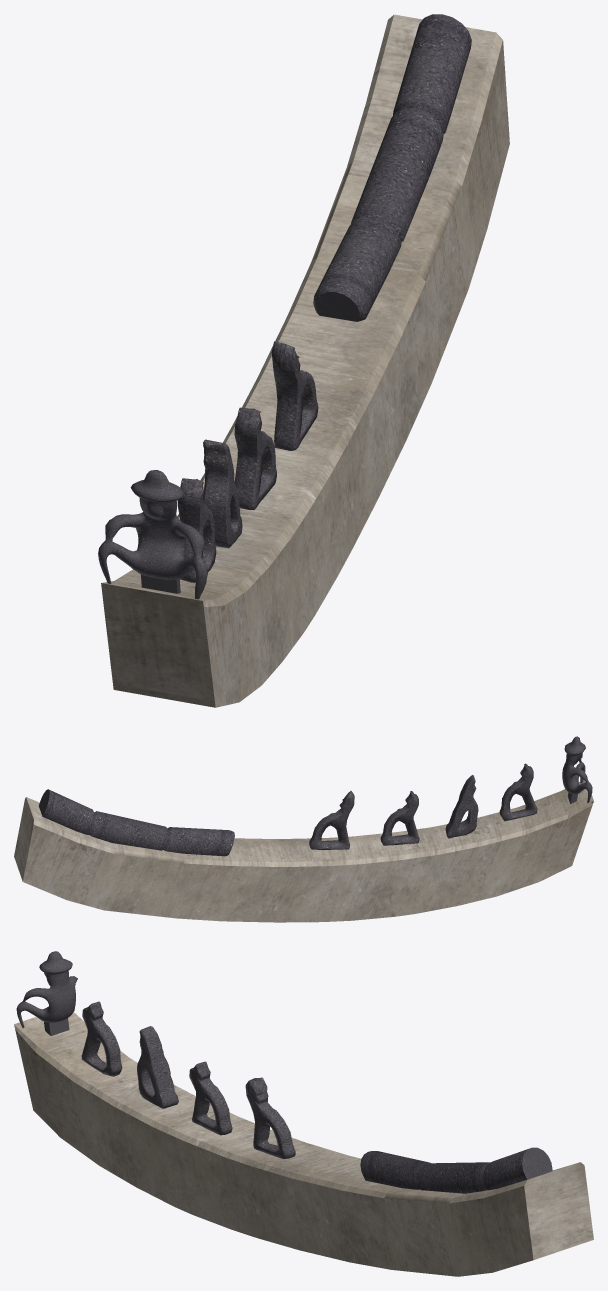
The model's file is SM_R_BeamRoof_16.fbx.
3 renders of one model, top to bottom at view 1: azimuth 30°, elevation 25°; view 2: azimuth 150°, elevation 25°; view 3: azimuth 270°, elevation 25°, orthographic. The views are drawn at different scales.
Parts seen in each view (by area): view 1: SM_R_BeamRoof_16; view 2: SM_R_BeamRoof_16; view 3: SM_R_BeamRoof_16.
Boxes of the visible parts, <box> form: SM_R_BeamRoof_16: <box>98,14,509,707</box>; SM_R_BeamRoof_16: <box>14,736,593,922</box>; SM_R_BeamRoof_16: <box>14,951,593,1276</box>.
Bounding box in the file's own units: 368 × 380 × 136.
Materials: 2 (2 with a texture image).
